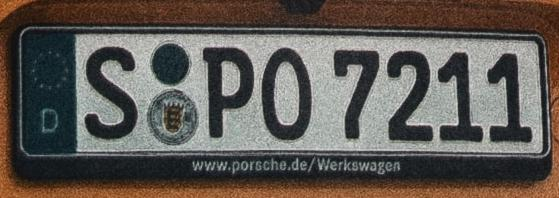1: (437, 50, 487, 143), (485, 51, 535, 144)
2: (385, 46, 435, 144)
7: (332, 46, 382, 143)
O: (260, 46, 316, 145)
P: (201, 44, 256, 142)
S: (84, 43, 140, 141)
